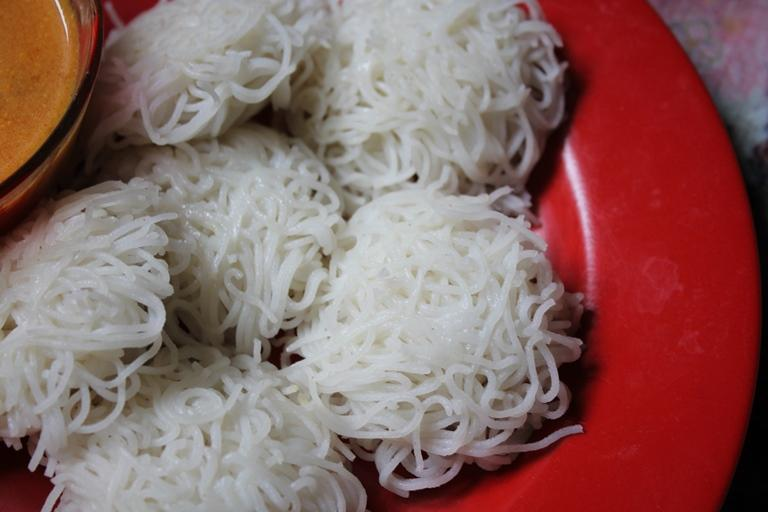String Hoppers: (97, 44, 575, 510)
